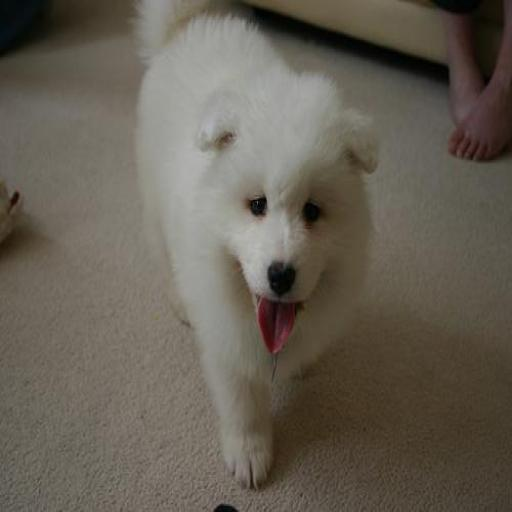dog_face: (197, 93, 381, 341)
